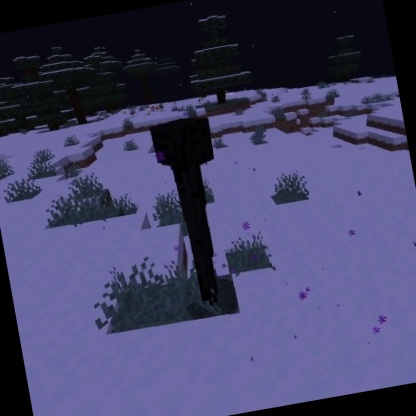enderman: (145, 111, 243, 312)
